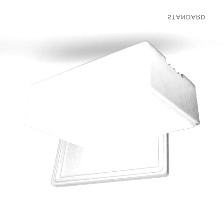foam_box: (16, 37, 205, 193)
